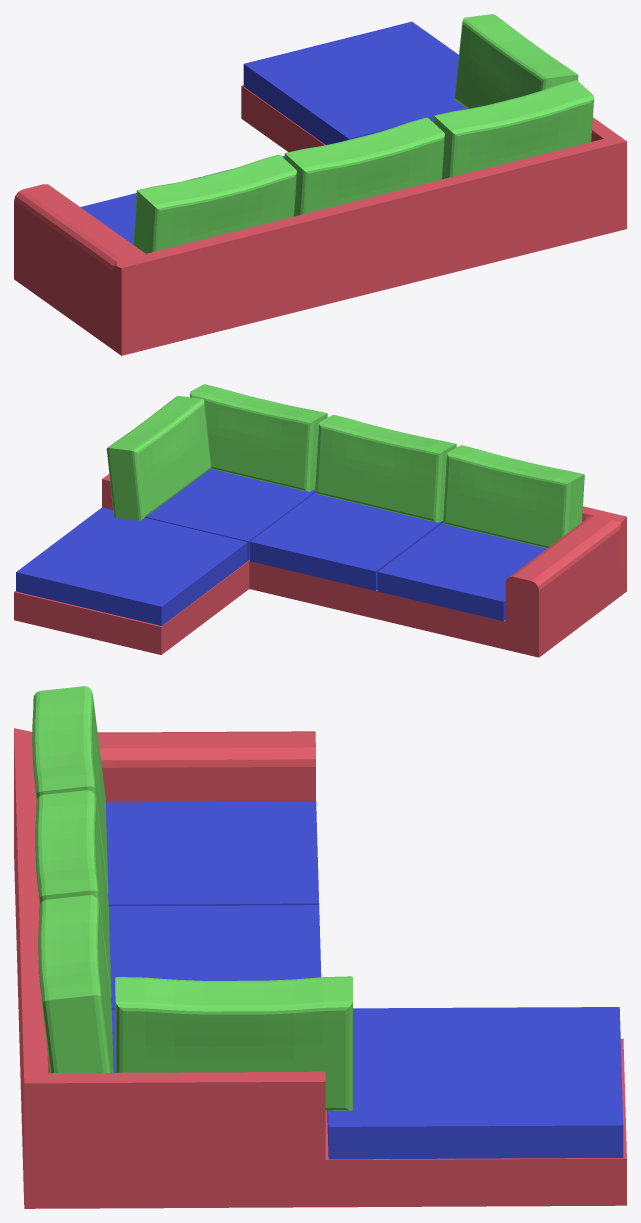
The model's file is Sofa.fbx.
The picture shows the model from 3 angles, top to bottom: view 1: azimuth 30°, elevation 25°; view 2: azimuth 150°, elevation 25°; view 3: azimuth 270°, elevation 25°; orthographic projection. The views are drawn at different scales.
Visible parts, largest first — view 1: Big_Couch, BCouch_Pillow1, BCouch_Pillow8, BCouch_Pillow6, BCouch_Pillow7, BCouch_Pillow5, BCouch_Pillow4; view 2: Big_Couch, BCouch_Pillow1, BCouch_Pillow8, BCouch_Pillow3, BCouch_Pillow7, BCouch_Pillow4, BCouch_Pillow6, BCouch_Pillow5, BCouch_Pillow2; view 3: Big_Couch, BCouch_Pillow1, BCouch_Pillow5, BCouch_Pillow4, BCouch_Pillow3, BCouch_Pillow6, BCouch_Pillow7, BCouch_Pillow8.
Part boxes in pixels (<box>): Big_Couch: <box>14,85,626,355</box>; BCouch_Pillow1: <box>243,21,467,144</box>; BCouch_Pillow8: <box>133,154,296,253</box>; BCouch_Pillow6: <box>433,80,594,179</box>; BCouch_Pillow7: <box>284,117,444,216</box>; BCouch_Pillow5: <box>454,14,578,108</box>; BCouch_Pillow4: <box>80,177,200,244</box>; Big_Couch: <box>14,474,626,657</box>; BCouch_Pillow1: <box>16,507,247,625</box>; BCouch_Pillow8: <box>443,445,584,548</box>; BCouch_Pillow3: <box>250,493,443,590</box>; BCouch_Pillow7: <box>315,415,456,522</box>; BCouch_Pillow4: <box>377,523,546,621</box>; BCouch_Pillow6: <box>190,384,327,491</box>; BCouch_Pillow5: <box>106,396,211,520</box>; BCouch_Pillow2: <box>145,469,315,560</box>; Big_Couch: <box>14,728,626,1208</box>; BCouch_Pillow1: <box>327,1007,623,1159</box>; BCouch_Pillow5: <box>115,976,352,1110</box>; BCouch_Pillow4: <box>105,801,319,906</box>; BCouch_Pillow3: <box>108,905,321,1009</box>; BCouch_Pillow6: <box>38,895,113,1073</box>; BCouch_Pillow7: <box>35,790,111,998</box>; BCouch_Pillow8: <box>32,686,108,894</box>.
Bounding box in the file's own units: 565 × 147 × 410.
